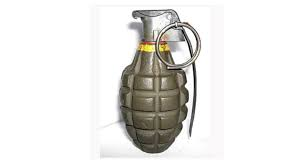bomb: (119, 8, 200, 152)
